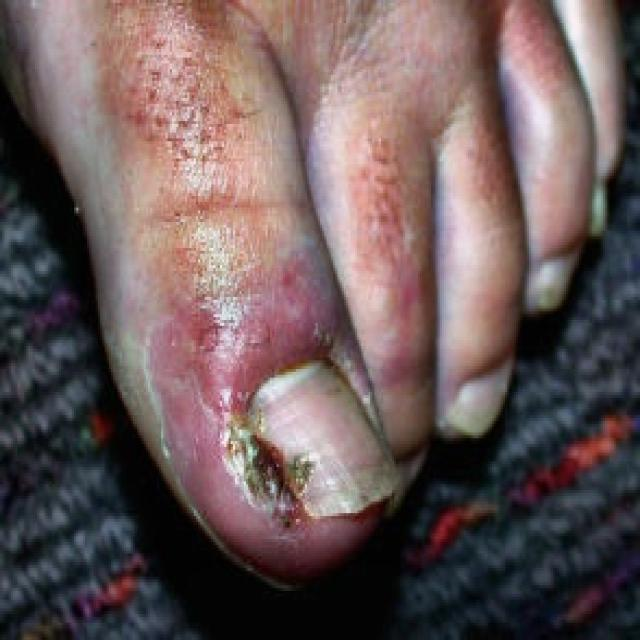Tinea Ringworm Candidiasis and other Fungal Infections: (135, 171, 395, 577)
